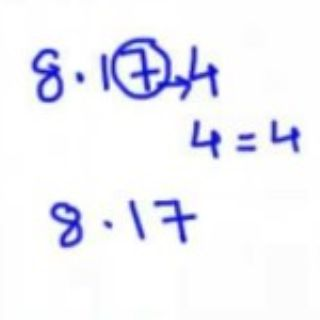.: (99, 216, 117, 234)
1: (124, 195, 147, 243), (98, 49, 111, 93)
4: (189, 42, 224, 100), (187, 116, 224, 164), (267, 117, 306, 154)
7: (152, 192, 198, 248)
8: (46, 196, 87, 254), (30, 44, 67, 104)
